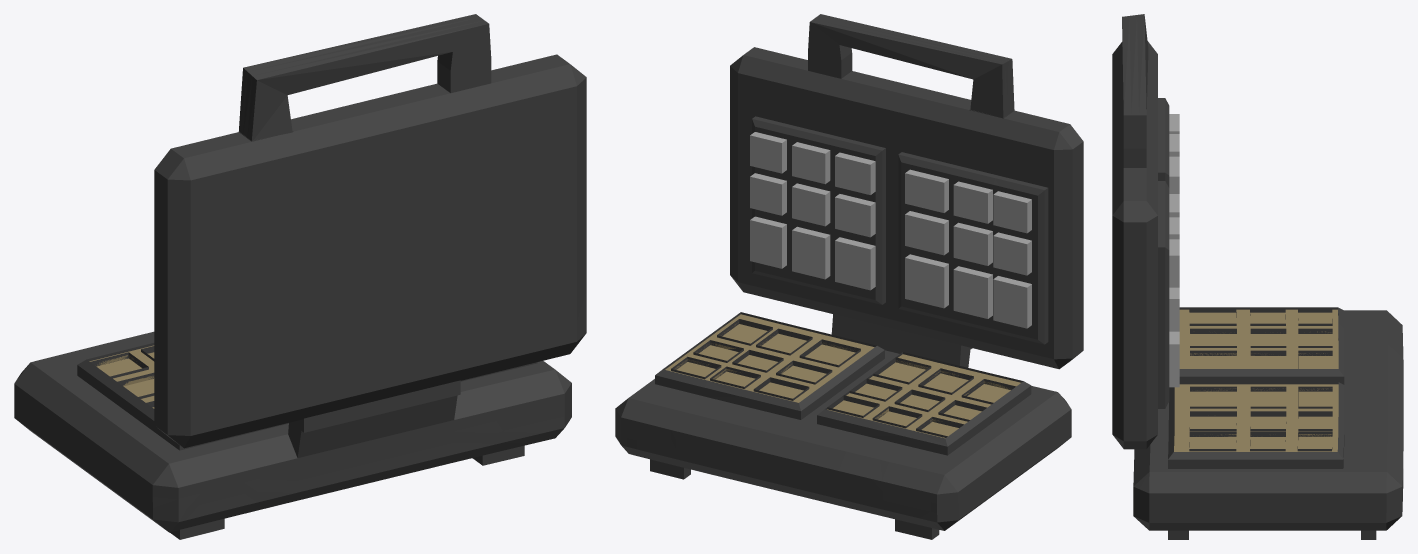
The model's file is WaffleFull.fbx.
3 views of the same model, side by side, from view 1: azimuth 30°, elevation 25°; view 2: azimuth 150°, elevation 25°; view 3: azimuth 270°, elevation 25° (orthographic). The views are drawn at different scales.
Parts seen in each view (by area): view 1: pCube6, pCube7; view 2: pCube6, pCube7; view 3: pCube7, pCube6.
Part boxes in pixels (<box>): pCube6: <box>154,14,586,448</box>; pCube7: <box>14,331,571,539</box>; pCube6: <box>730,14,1083,369</box>; pCube7: <box>615,312,1071,539</box>; pCube7: <box>1133,307,1403,539</box>; pCube6: <box>1112,14,1179,449</box>.
Size of the model in its own units: 1.51 by 1.62 by 1.06.
